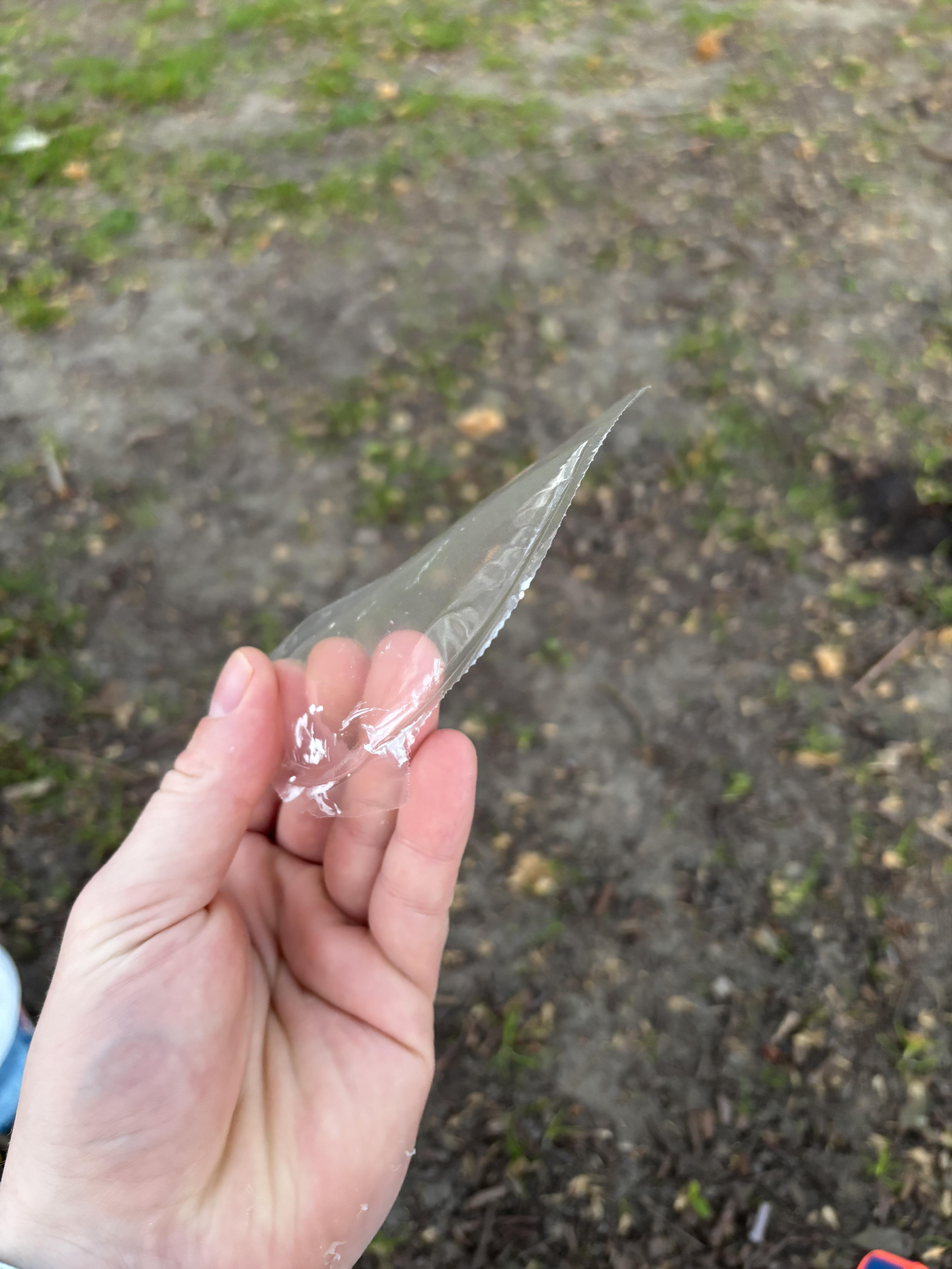Plastic: (253, 389, 669, 822)
